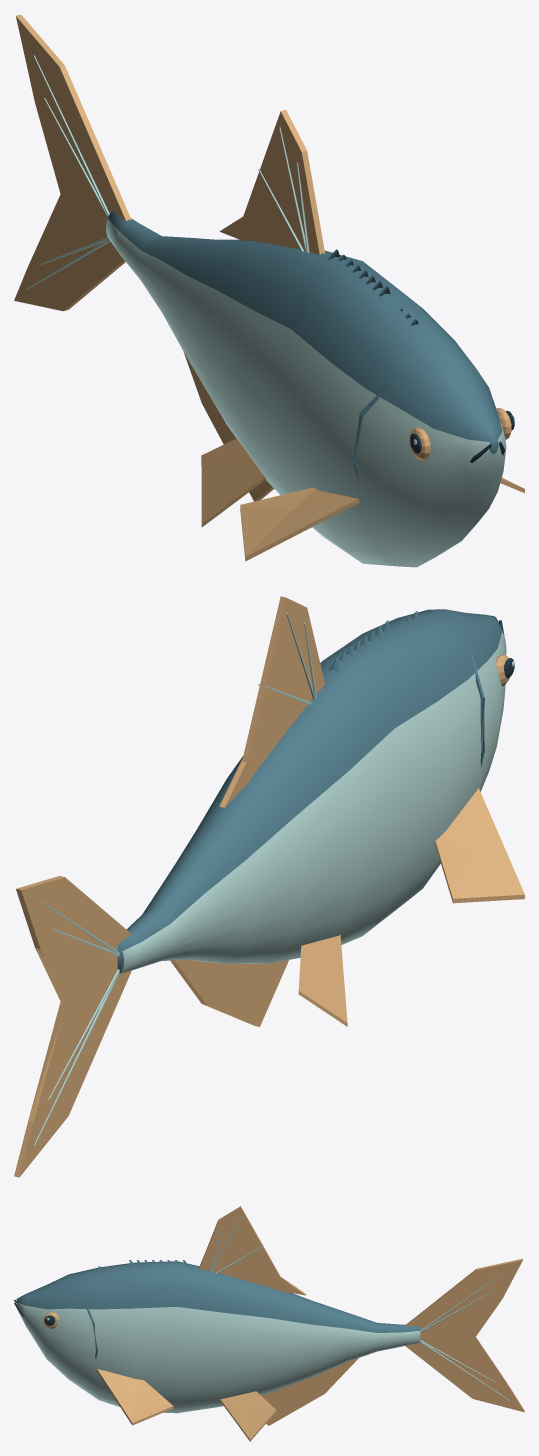
Rendered from diplomystus.glb.
The picture shows the model from 3 angles, top to bottom: view 1: azimuth 30°, elevation 25°; view 2: azimuth 150°, elevation 25°; view 3: azimuth 270°, elevation 25°; orthographic projection. The views are drawn at different scales.
Visible parts, largest first — view 1: profile-loft-body, fins-with-raised-ray-rhythm, eyes-opercula-and-upturned-lip; view 2: profile-loft-body, fins-with-raised-ray-rhythm, eyes-opercula-and-upturned-lip; view 3: profile-loft-body, fins-with-raised-ray-rhythm, eyes-opercula-and-upturned-lip.
Part boxes in pixels (x1,y1,x2,y2): profile-loft-body: [106, 211, 506, 567]; fins-with-raised-ray-rhythm: [14, 14, 524, 561]; eyes-opercula-and-upturned-lip: [328, 249, 514, 481]; profile-loft-body: [117, 609, 506, 973]; fins-with-raised-ray-rhythm: [14, 596, 524, 1177]; eyes-opercula-and-upturned-lip: [328, 611, 514, 767]; profile-loft-body: [16, 1261, 420, 1413]; fins-with-raised-ray-rhythm: [96, 1206, 524, 1441]; eyes-opercula-and-upturned-lip: [14, 1260, 188, 1358].
Bounding box in the file's own units: 0.092 × 0.129 × 0.2734.
